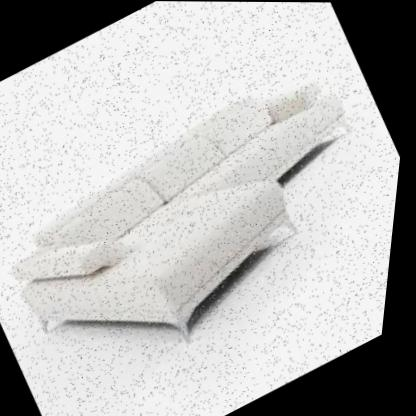Sofa: (0, 4, 416, 416)
